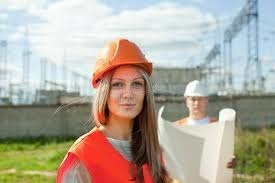helmet: (87, 34, 157, 91), (182, 77, 212, 98)
person with full safety: (55, 38, 176, 182)
person with partial safety: (167, 77, 227, 127)
safety vest: (64, 127, 164, 182)
